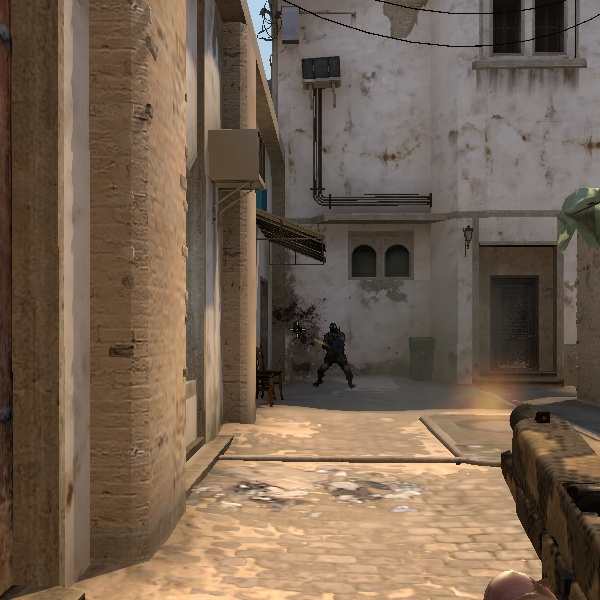ct_body: (313, 319, 353, 387)
t_body: (313, 319, 353, 387)
